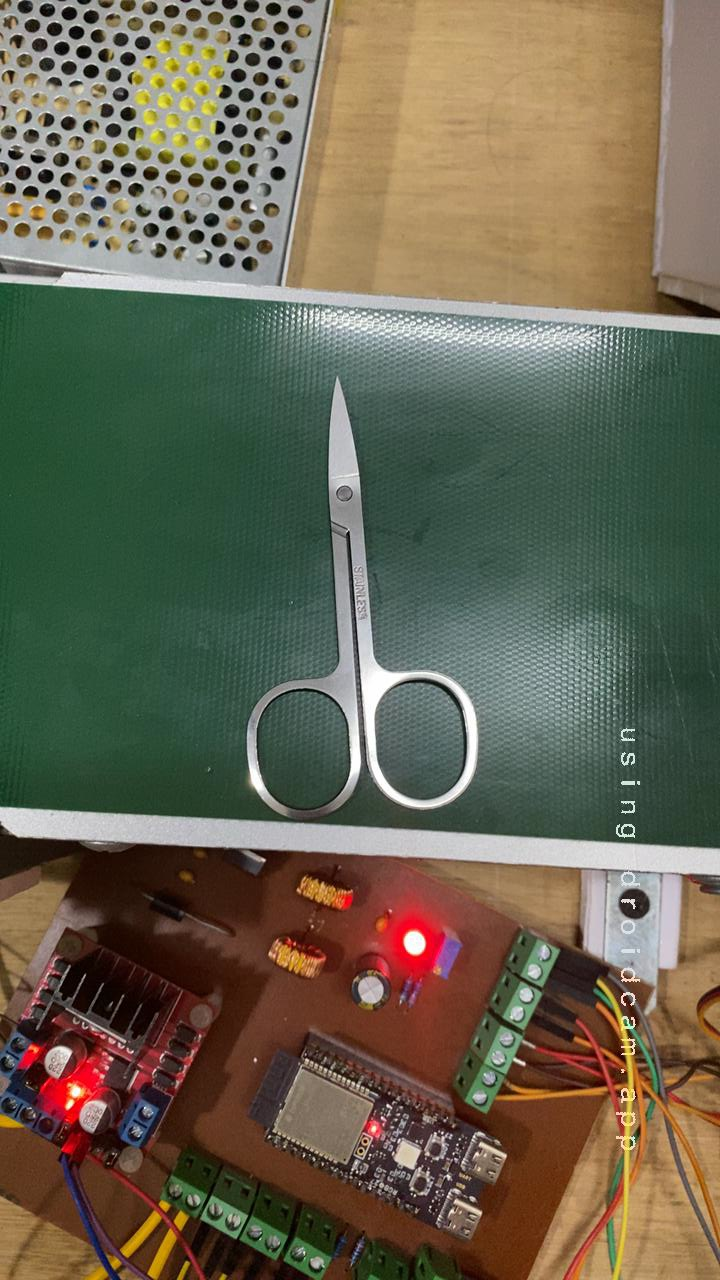scissor: (204, 383, 506, 830)
